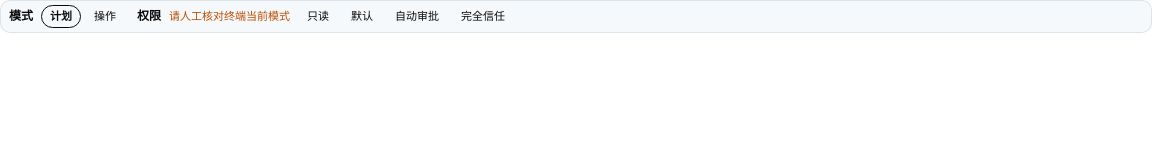
Test: ModeBar：T5 codex 回执消费（observed） › codex 模式切换 verified=false 带 observed → 回执原样透出「屏已切换至 X（预期 Y）」，不重复拼接 observed 档名
Click the button with test id "mode-switch-mode-default" at (105, 16), box [85,5,125,28]
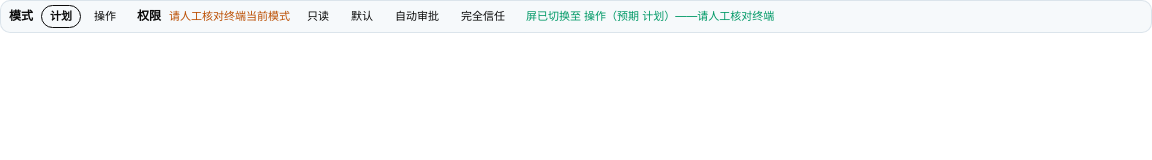
Now the text with test id "mode-receipt" reads "屏已切换至 操作（预期 计划）——请人工核对终端", box [526,9,774,23]
